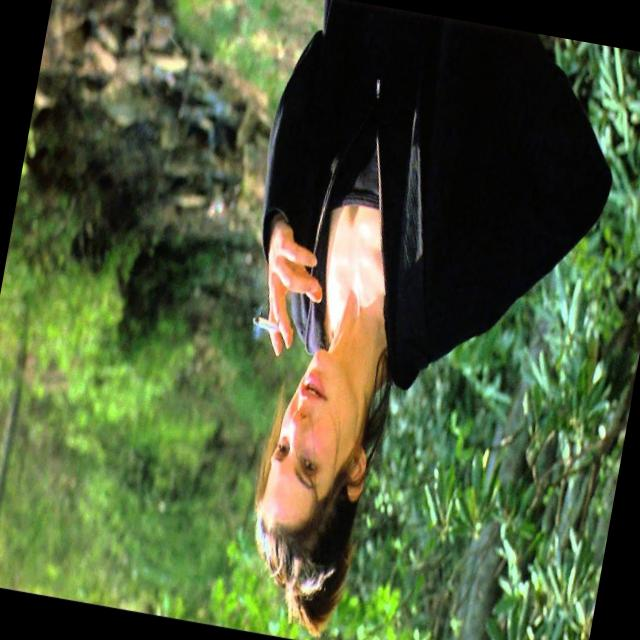smoke: (226, 278, 300, 354)
